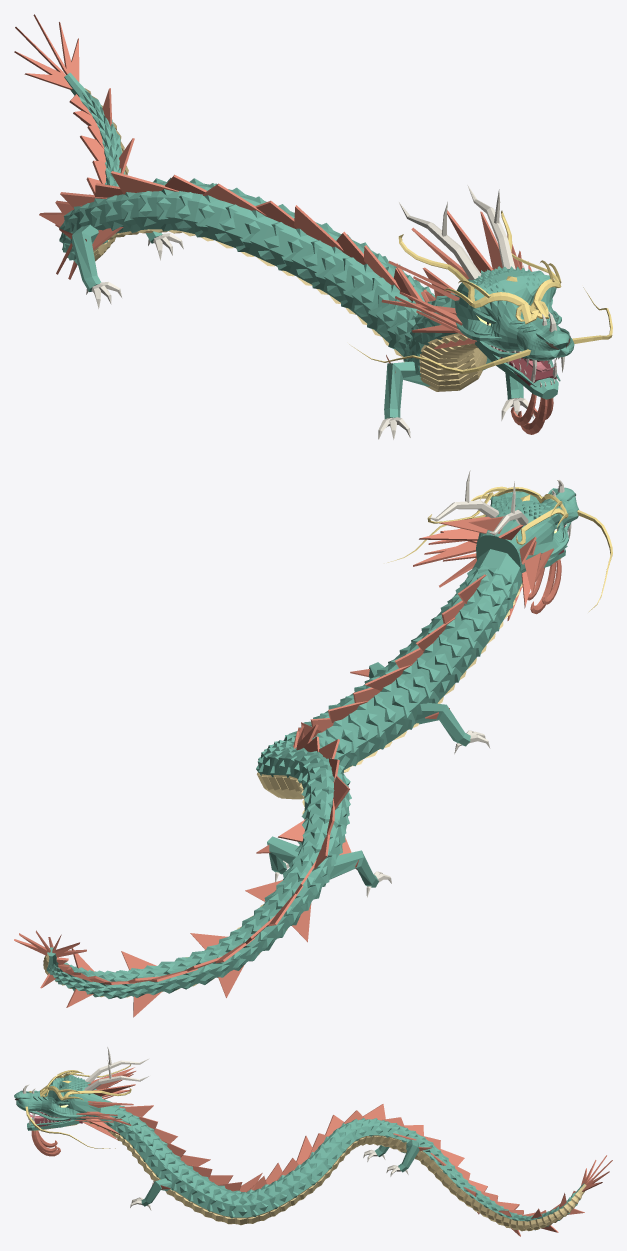
File: Dragon_Long_v11.glb
3 views of the same model, one above another, from view 1: azimuth 30°, elevation 25°; view 2: azimuth 150°, elevation 25°; view 3: azimuth 270°, elevation 25° (orthographic). The views are drawn at different scales.
Parts seen in each view (by area): view 1: Body, Fins, Horns, Belly, Whiskers, Mouth; view 2: Body, Fins, Horns, Whiskers, Belly; view 3: Body, Fins, Belly, Horns, Whiskers.
Part boxes in pixels (x1,y1,x2,y2): Body: (59,72,574,418); Fins: (14,14,553,434); Horns: (86,185,564,439); Belly: (84,88,535,395); Whiskers: (349,210,612,373); Mouth: (491,346,556,385); Body: (46,487,578,998); Fins: (14,516,561,1017); Horns: (275,470,571,897); Whiskers: (387,486,612,611); Belly: (43,558,561,997); Body: (14,1075,584,1230); Fins: (31,1067,612,1236); Belly: (34,1122,586,1231); Horns: (22,1047,408,1210); Whiskers: (25,1064,131,1148).
Bounding box in the file's own units: 14.48 × 19.17 × 58.04.
